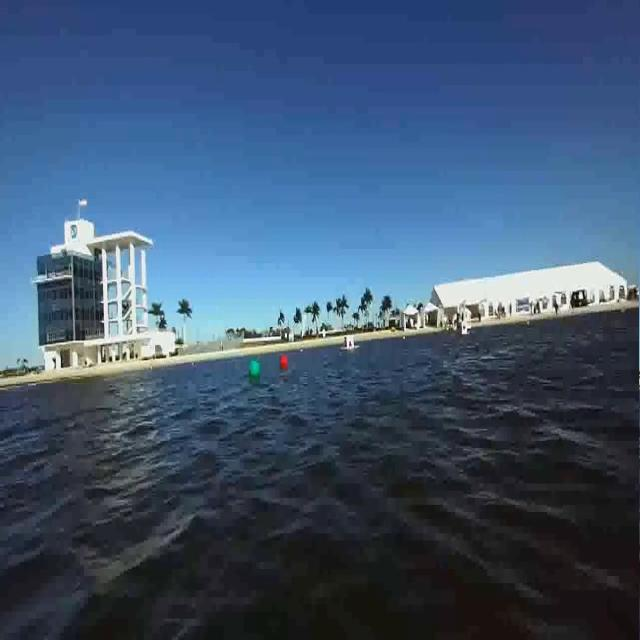green-buoy: (248, 358, 262, 379)
red-buoy: (280, 354, 289, 370)
